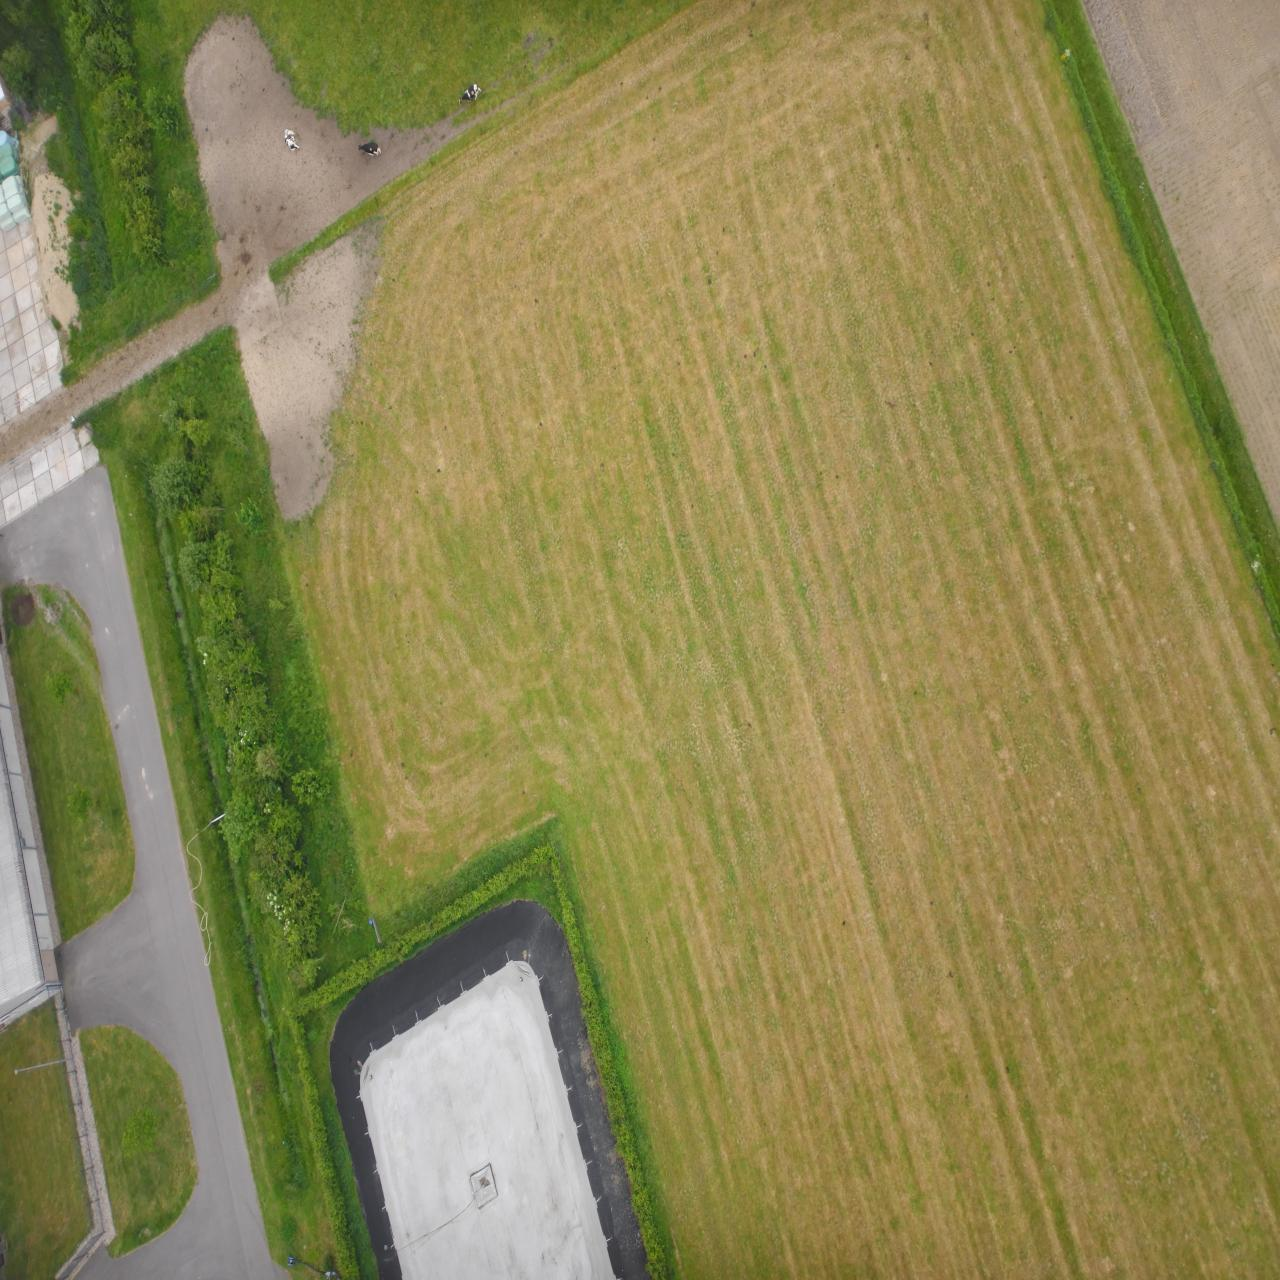cow: (798, 1176, 822, 1196), (980, 1129, 995, 1151), (899, 1124, 922, 1138)
